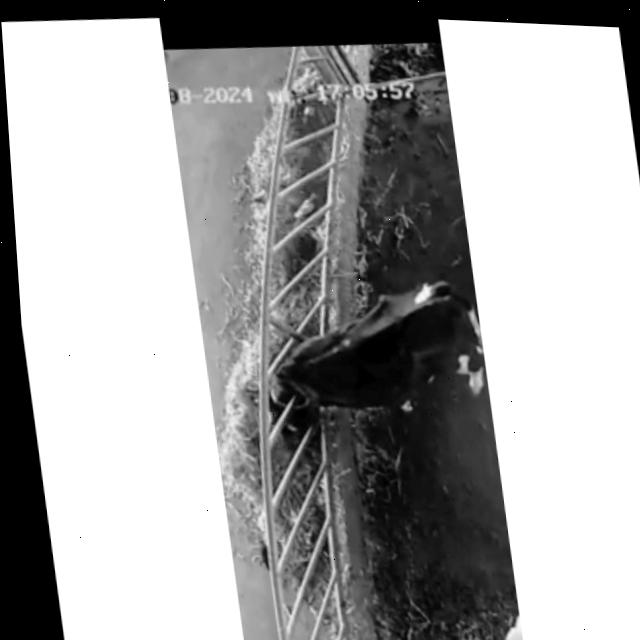eat: (213, 337, 366, 464)
